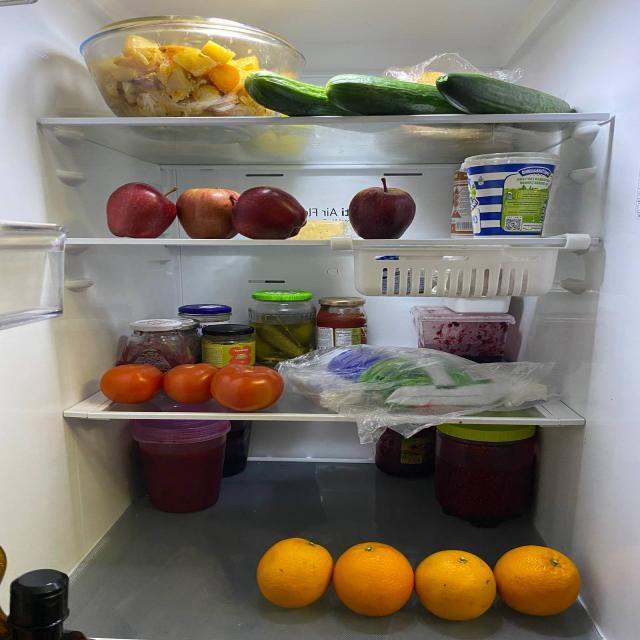Apple: (232, 181, 312, 237), (100, 184, 182, 236), (177, 182, 251, 234), (350, 179, 416, 237)
Cucumber: (437, 74, 587, 120), (326, 73, 456, 118), (241, 71, 351, 120)
Orange: (330, 539, 416, 621), (413, 549, 503, 623), (499, 543, 585, 619), (250, 535, 334, 612)
Tomato: (206, 366, 286, 412), (92, 363, 162, 406), (160, 360, 218, 409)
